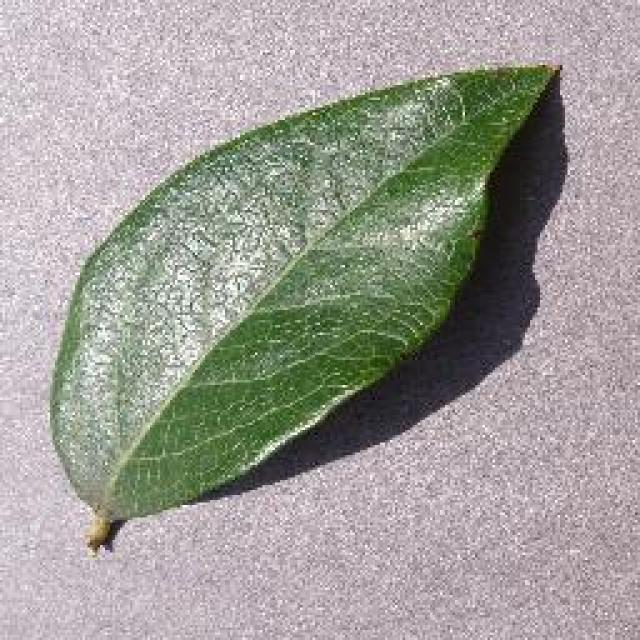Blu_healthy: (111, 118, 449, 482)
